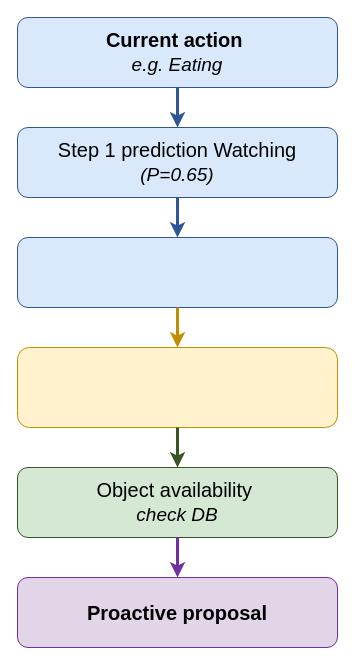
Some shapes in this 355 by 665 pixel diagram are drawn without their labels. The shapes that lost their labels are listed below. From the top down, each one's box as (x1, y1, x2, y2) in pixels, then its label:
(16, 236, 338, 308): Step 2 prediction Drinking (P=0.58)
(16, 346, 338, 428): Infer need: beverage confidence (conf) = 0.65 × 0.58 = 0.38 > threshold (0.25)
